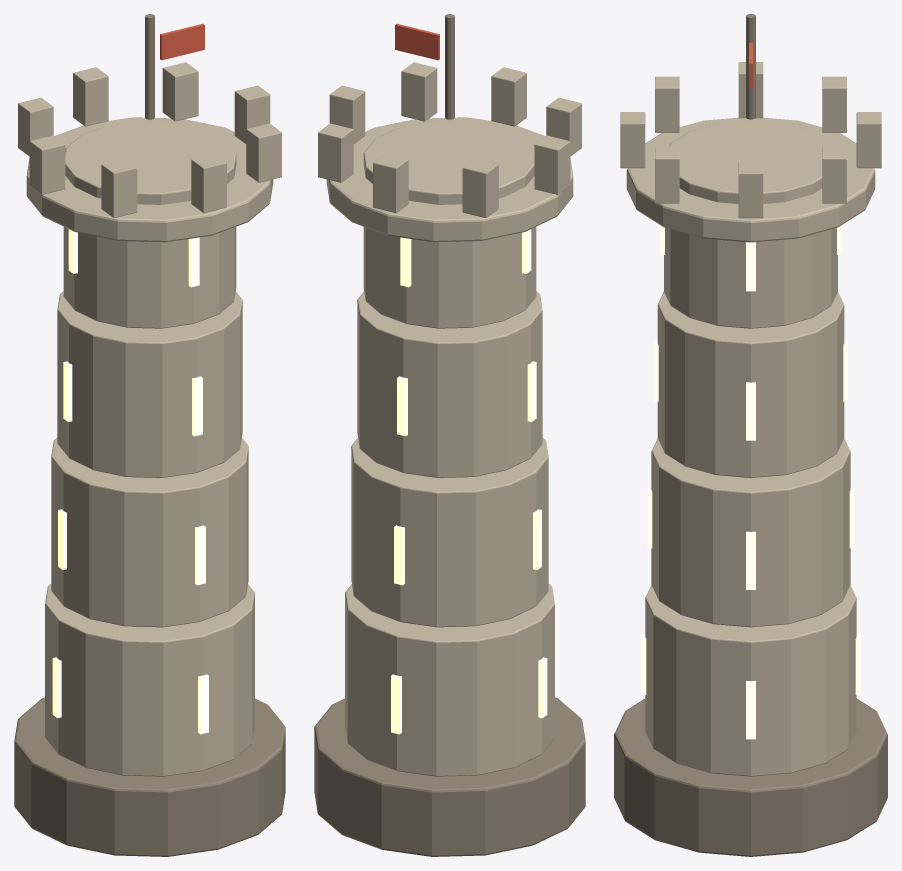
Rendered from watchtower.glb.
The picture shows the model from 3 angles, left to right: view 1: azimuth 30°, elevation 25°; view 2: azimuth 150°, elevation 25°; view 3: azimuth 270°, elevation 25°; orthographic projection.
Visible parts, largest first — view 1: Watchtower; view 2: Watchtower; view 3: Watchtower.
Boxes of the visible parts, x1,y1,x2,y2 form: Watchtower: (14,14,285,856); Watchtower: (314,14,585,856); Watchtower: (614,14,887,856).
Size of the model in its own units: 2.2 by 6.95 by 2.2.
